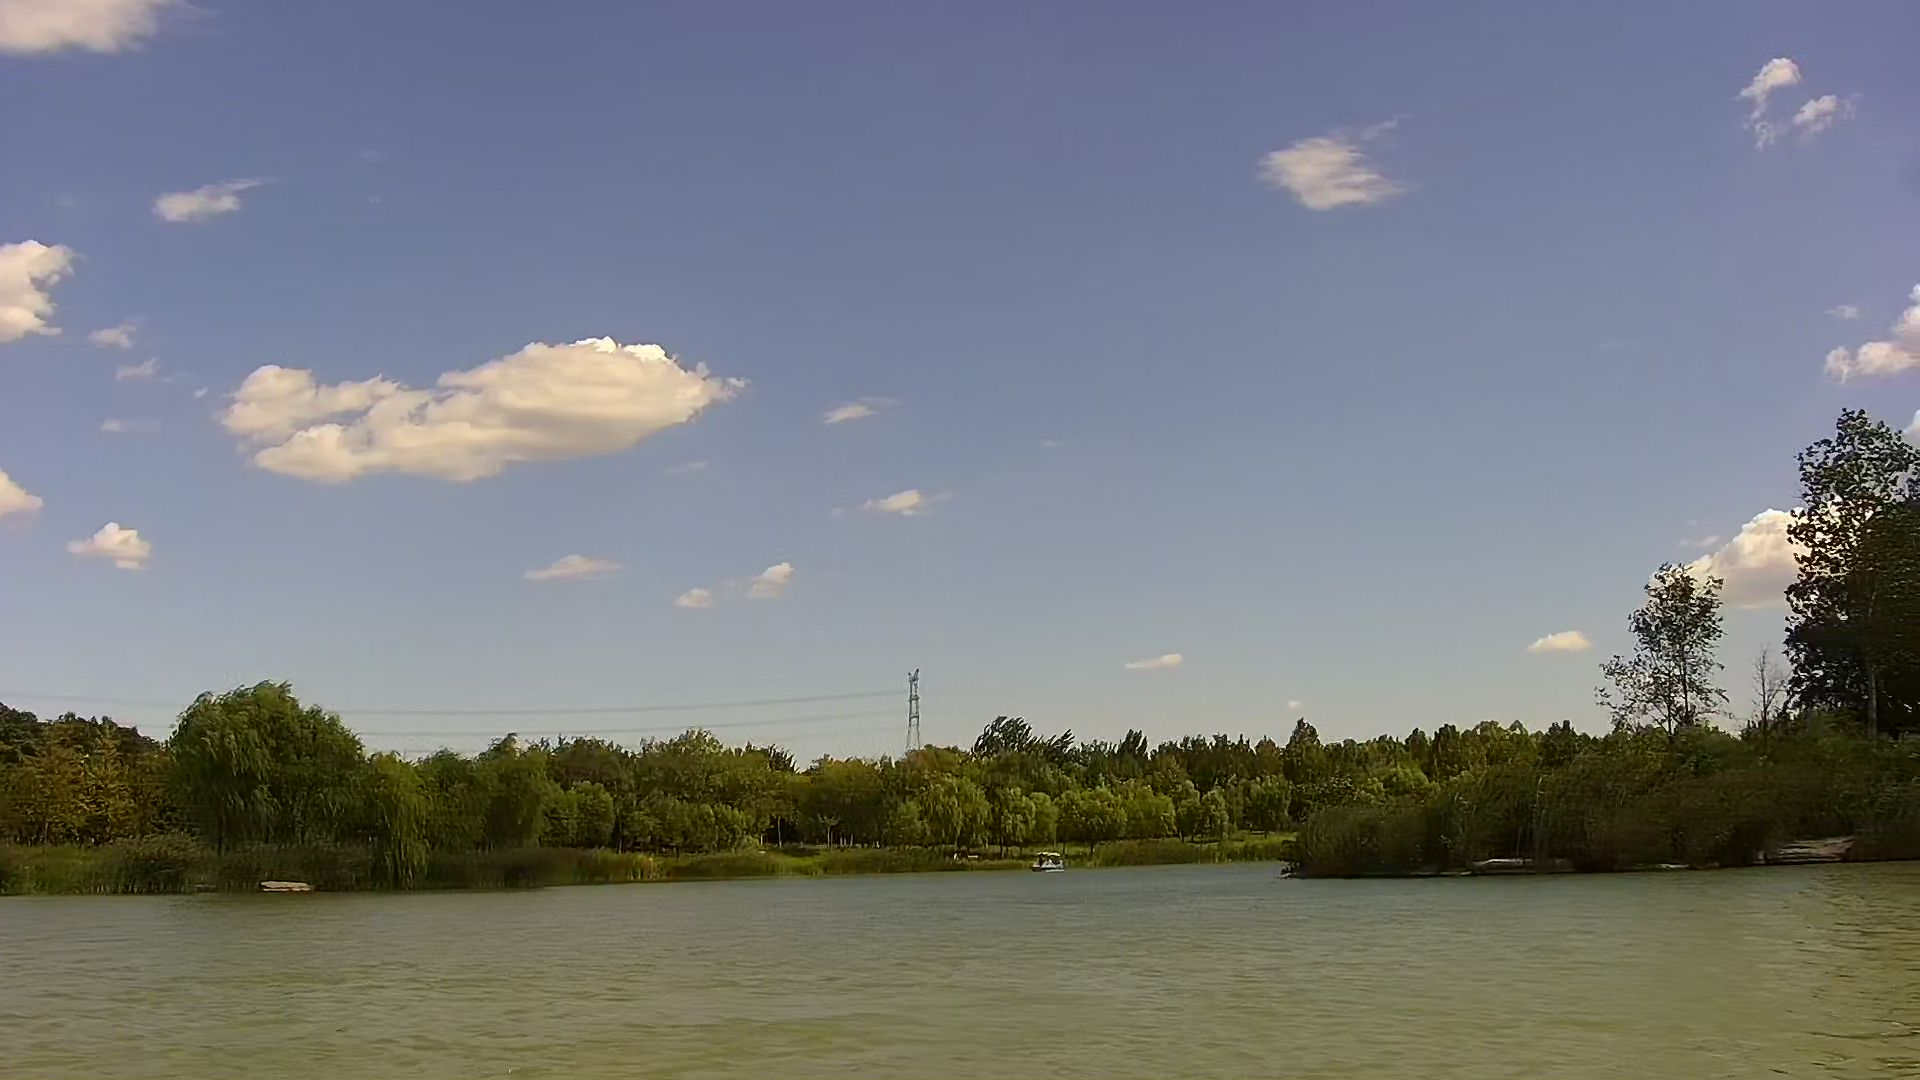boat: (1029, 853, 1065, 876)
rock: (1760, 833, 1862, 861), (1470, 855, 1573, 873), (258, 880, 309, 893)
